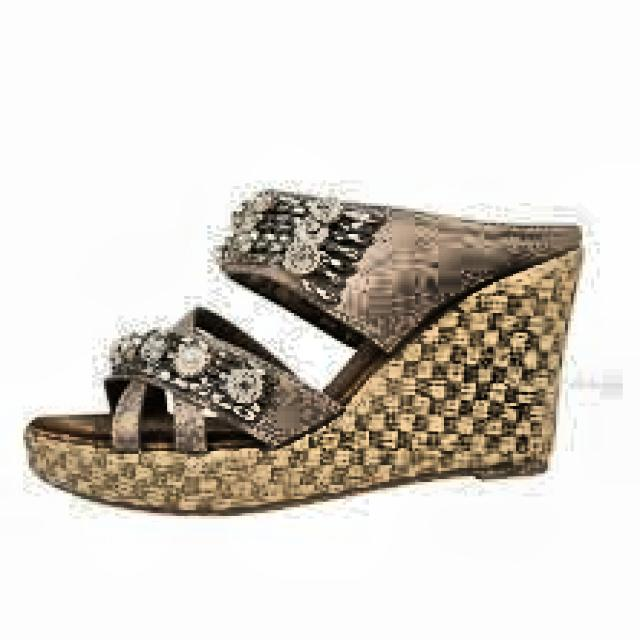shoes: (16, 182, 592, 539)
